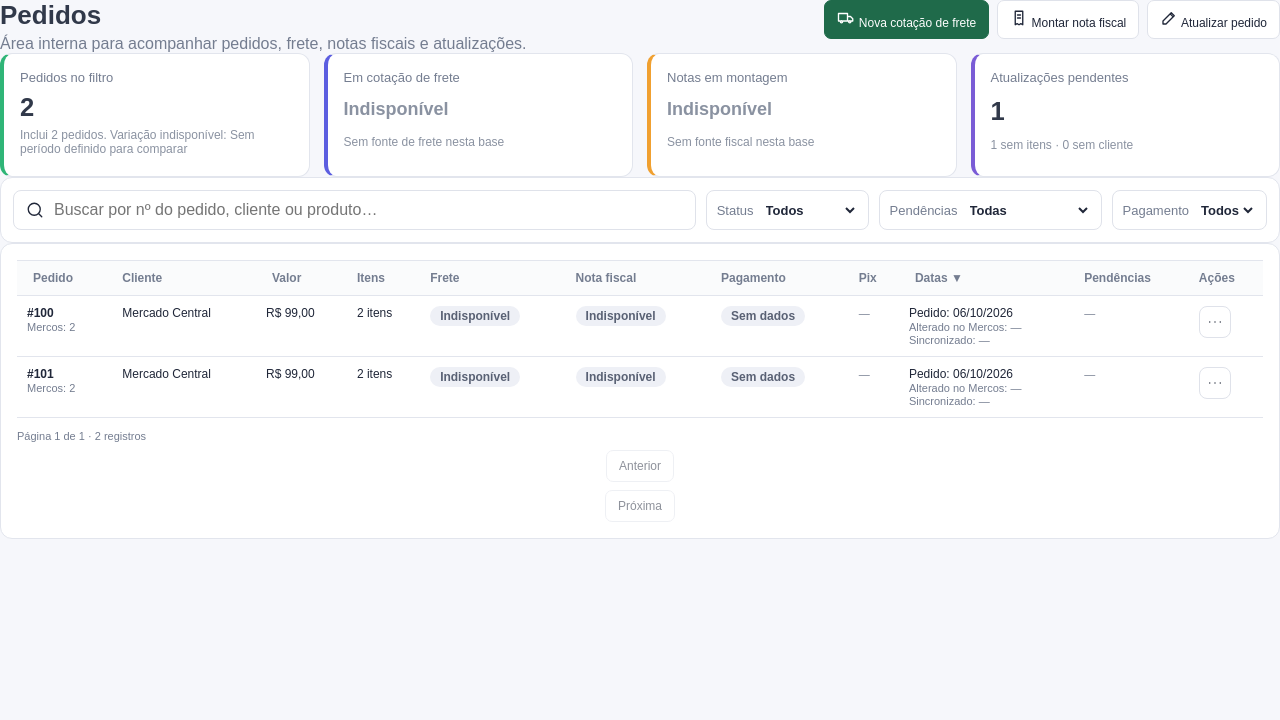
Test: botão global exige escolher o pedido explicitamente
Check: the text "#100" is shown, box x1=27 y1=306 x2=54 y2=320
Click the button "Nova cotação de frete".
click(907, 20)  # box x1=824 y1=0 x2=989 y2=39
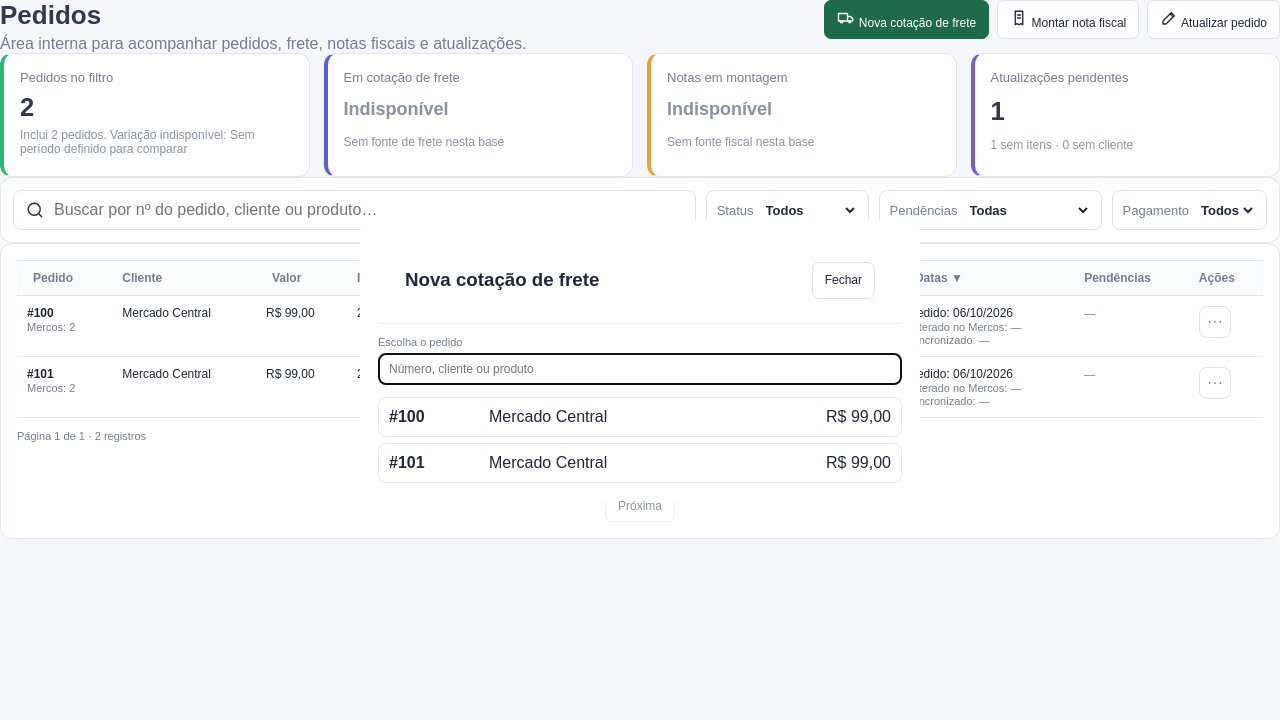
Check: the text "Escolha o pedido" is shown, box x1=378 y1=336 x2=462 y2=348
Press Escape
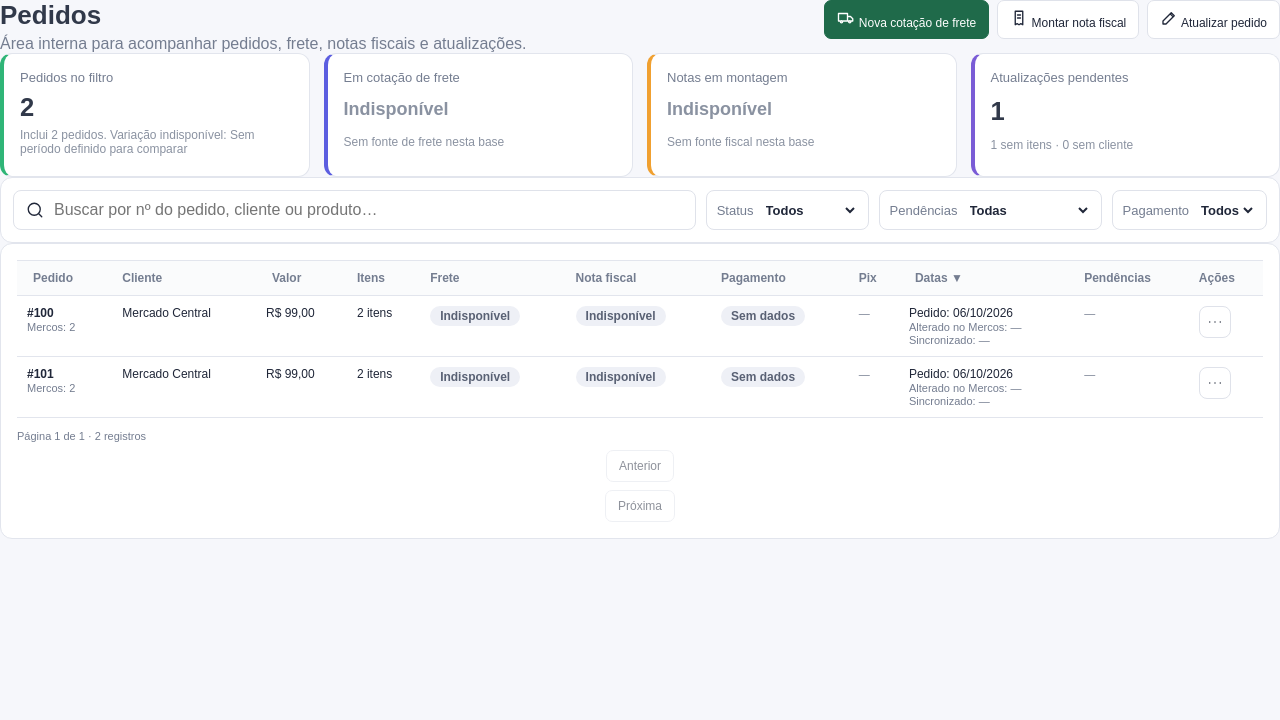
Check: the dialog is gone
